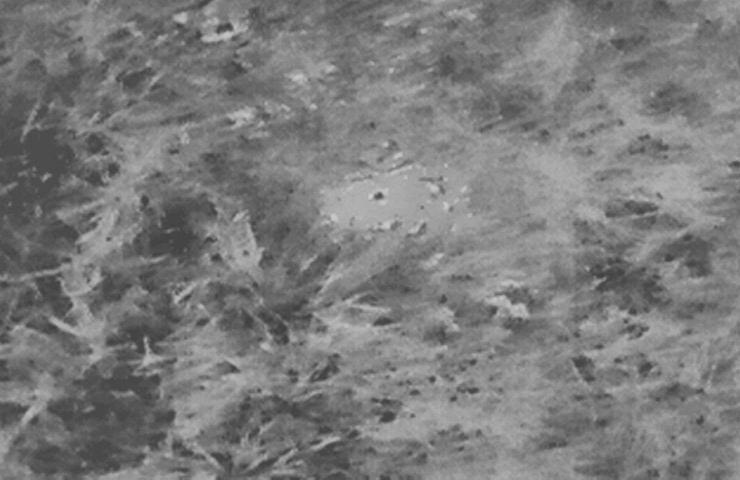landmines: (316, 159, 447, 245)
